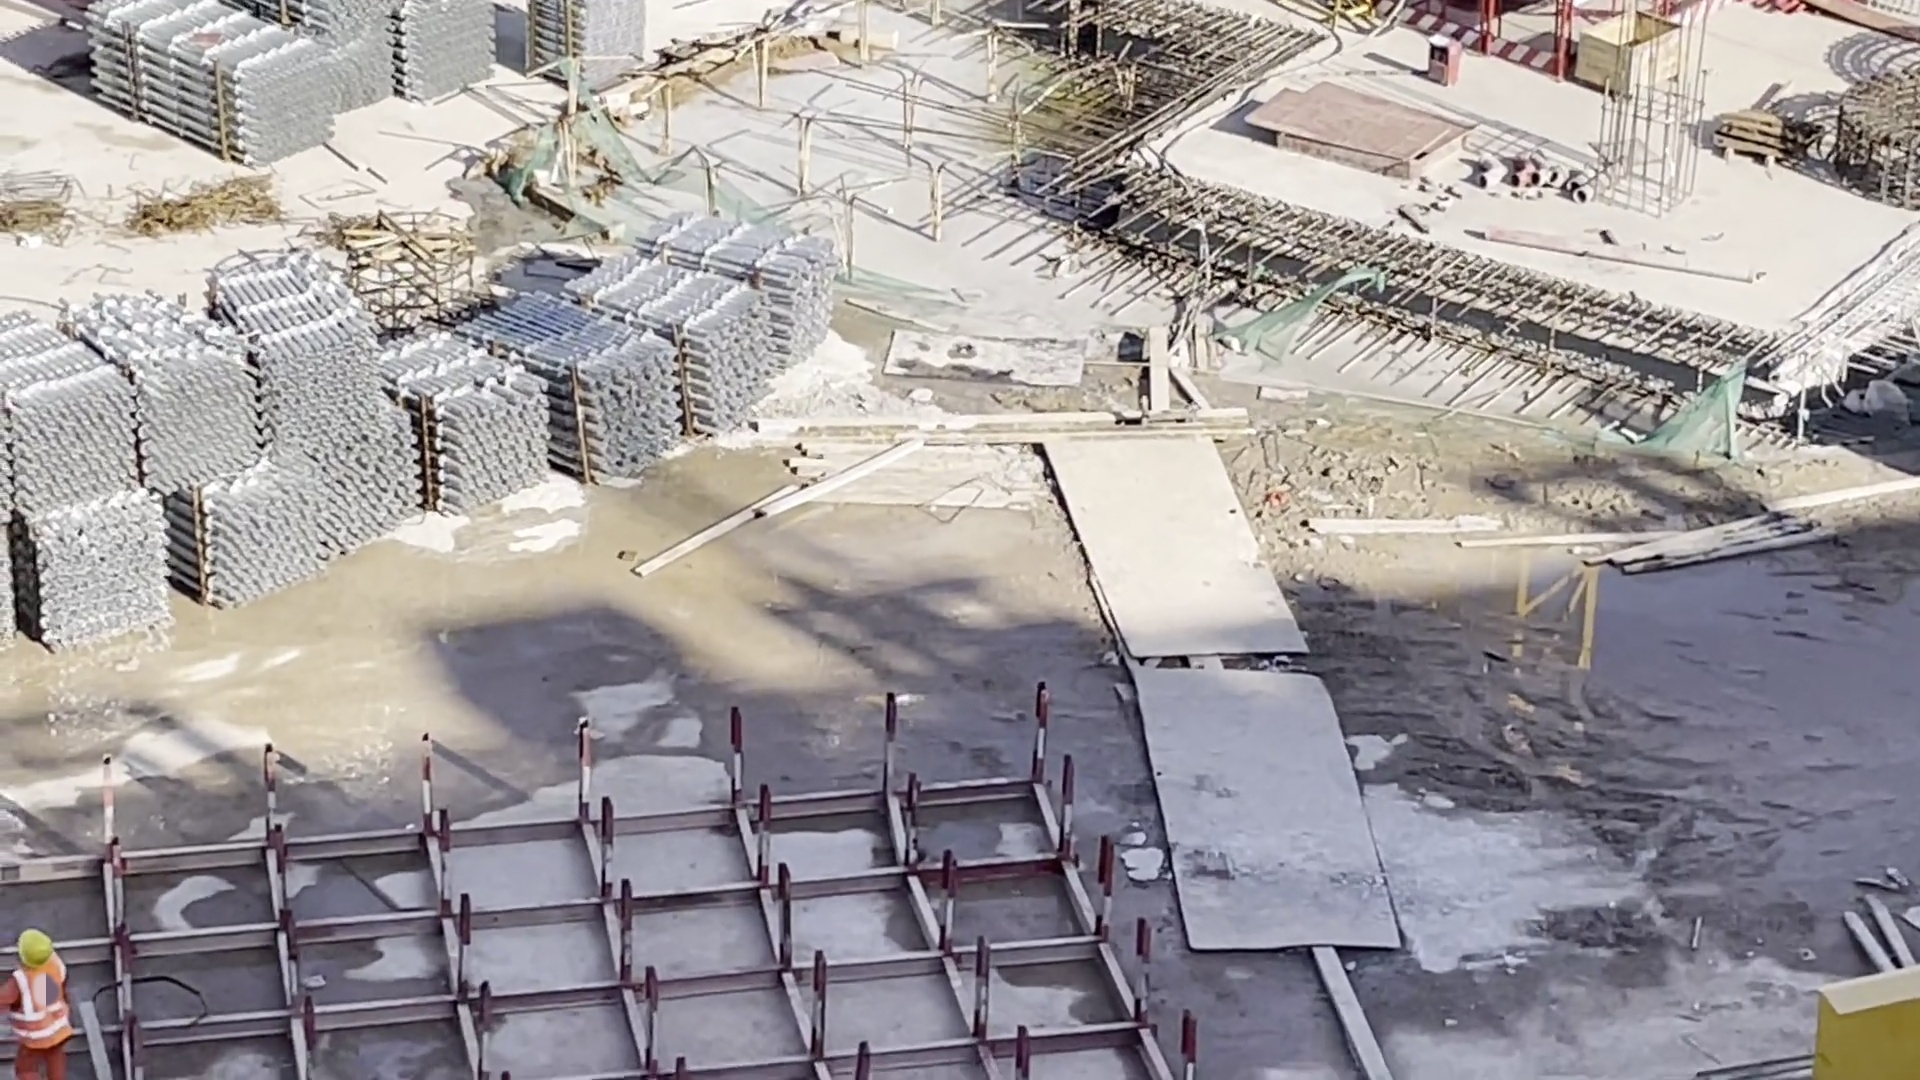board: (1235, 52, 1509, 176)
helmet: (13, 930, 48, 973)
person: (12, 930, 68, 1080)
scaffold: (1, 221, 834, 648), (78, 1, 499, 174), (530, 1, 642, 82)
vest: (4, 958, 71, 1045)
